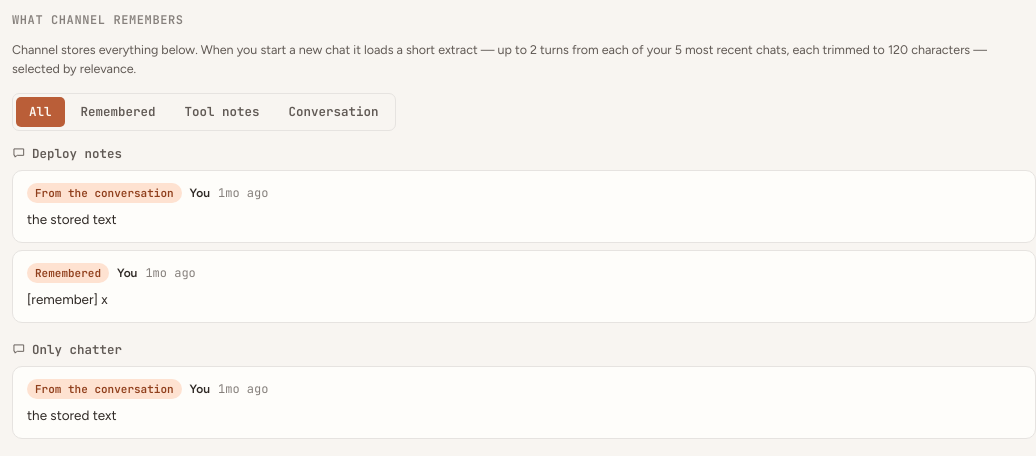
Test: MemorySection › kind filter › narrows to one kind and drops chats left with nothing to show
Check: the text "Channel stores everything below" is shown, box left=12, top=42, right=987, bottom=76
Click the button "Remembered". click: (118, 112)
box: left=68, top=97, right=168, bottom=127
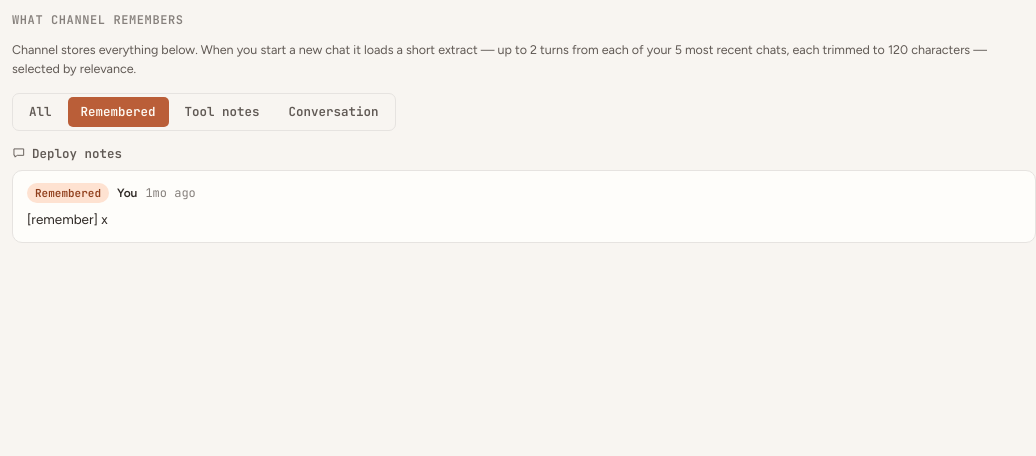
Check: the text "[remember] x" is shown, box left=27, top=211, right=108, bottom=227
Check: the text "the stored text" is gone
Check: the heading labelled "Only chatter" is gone
